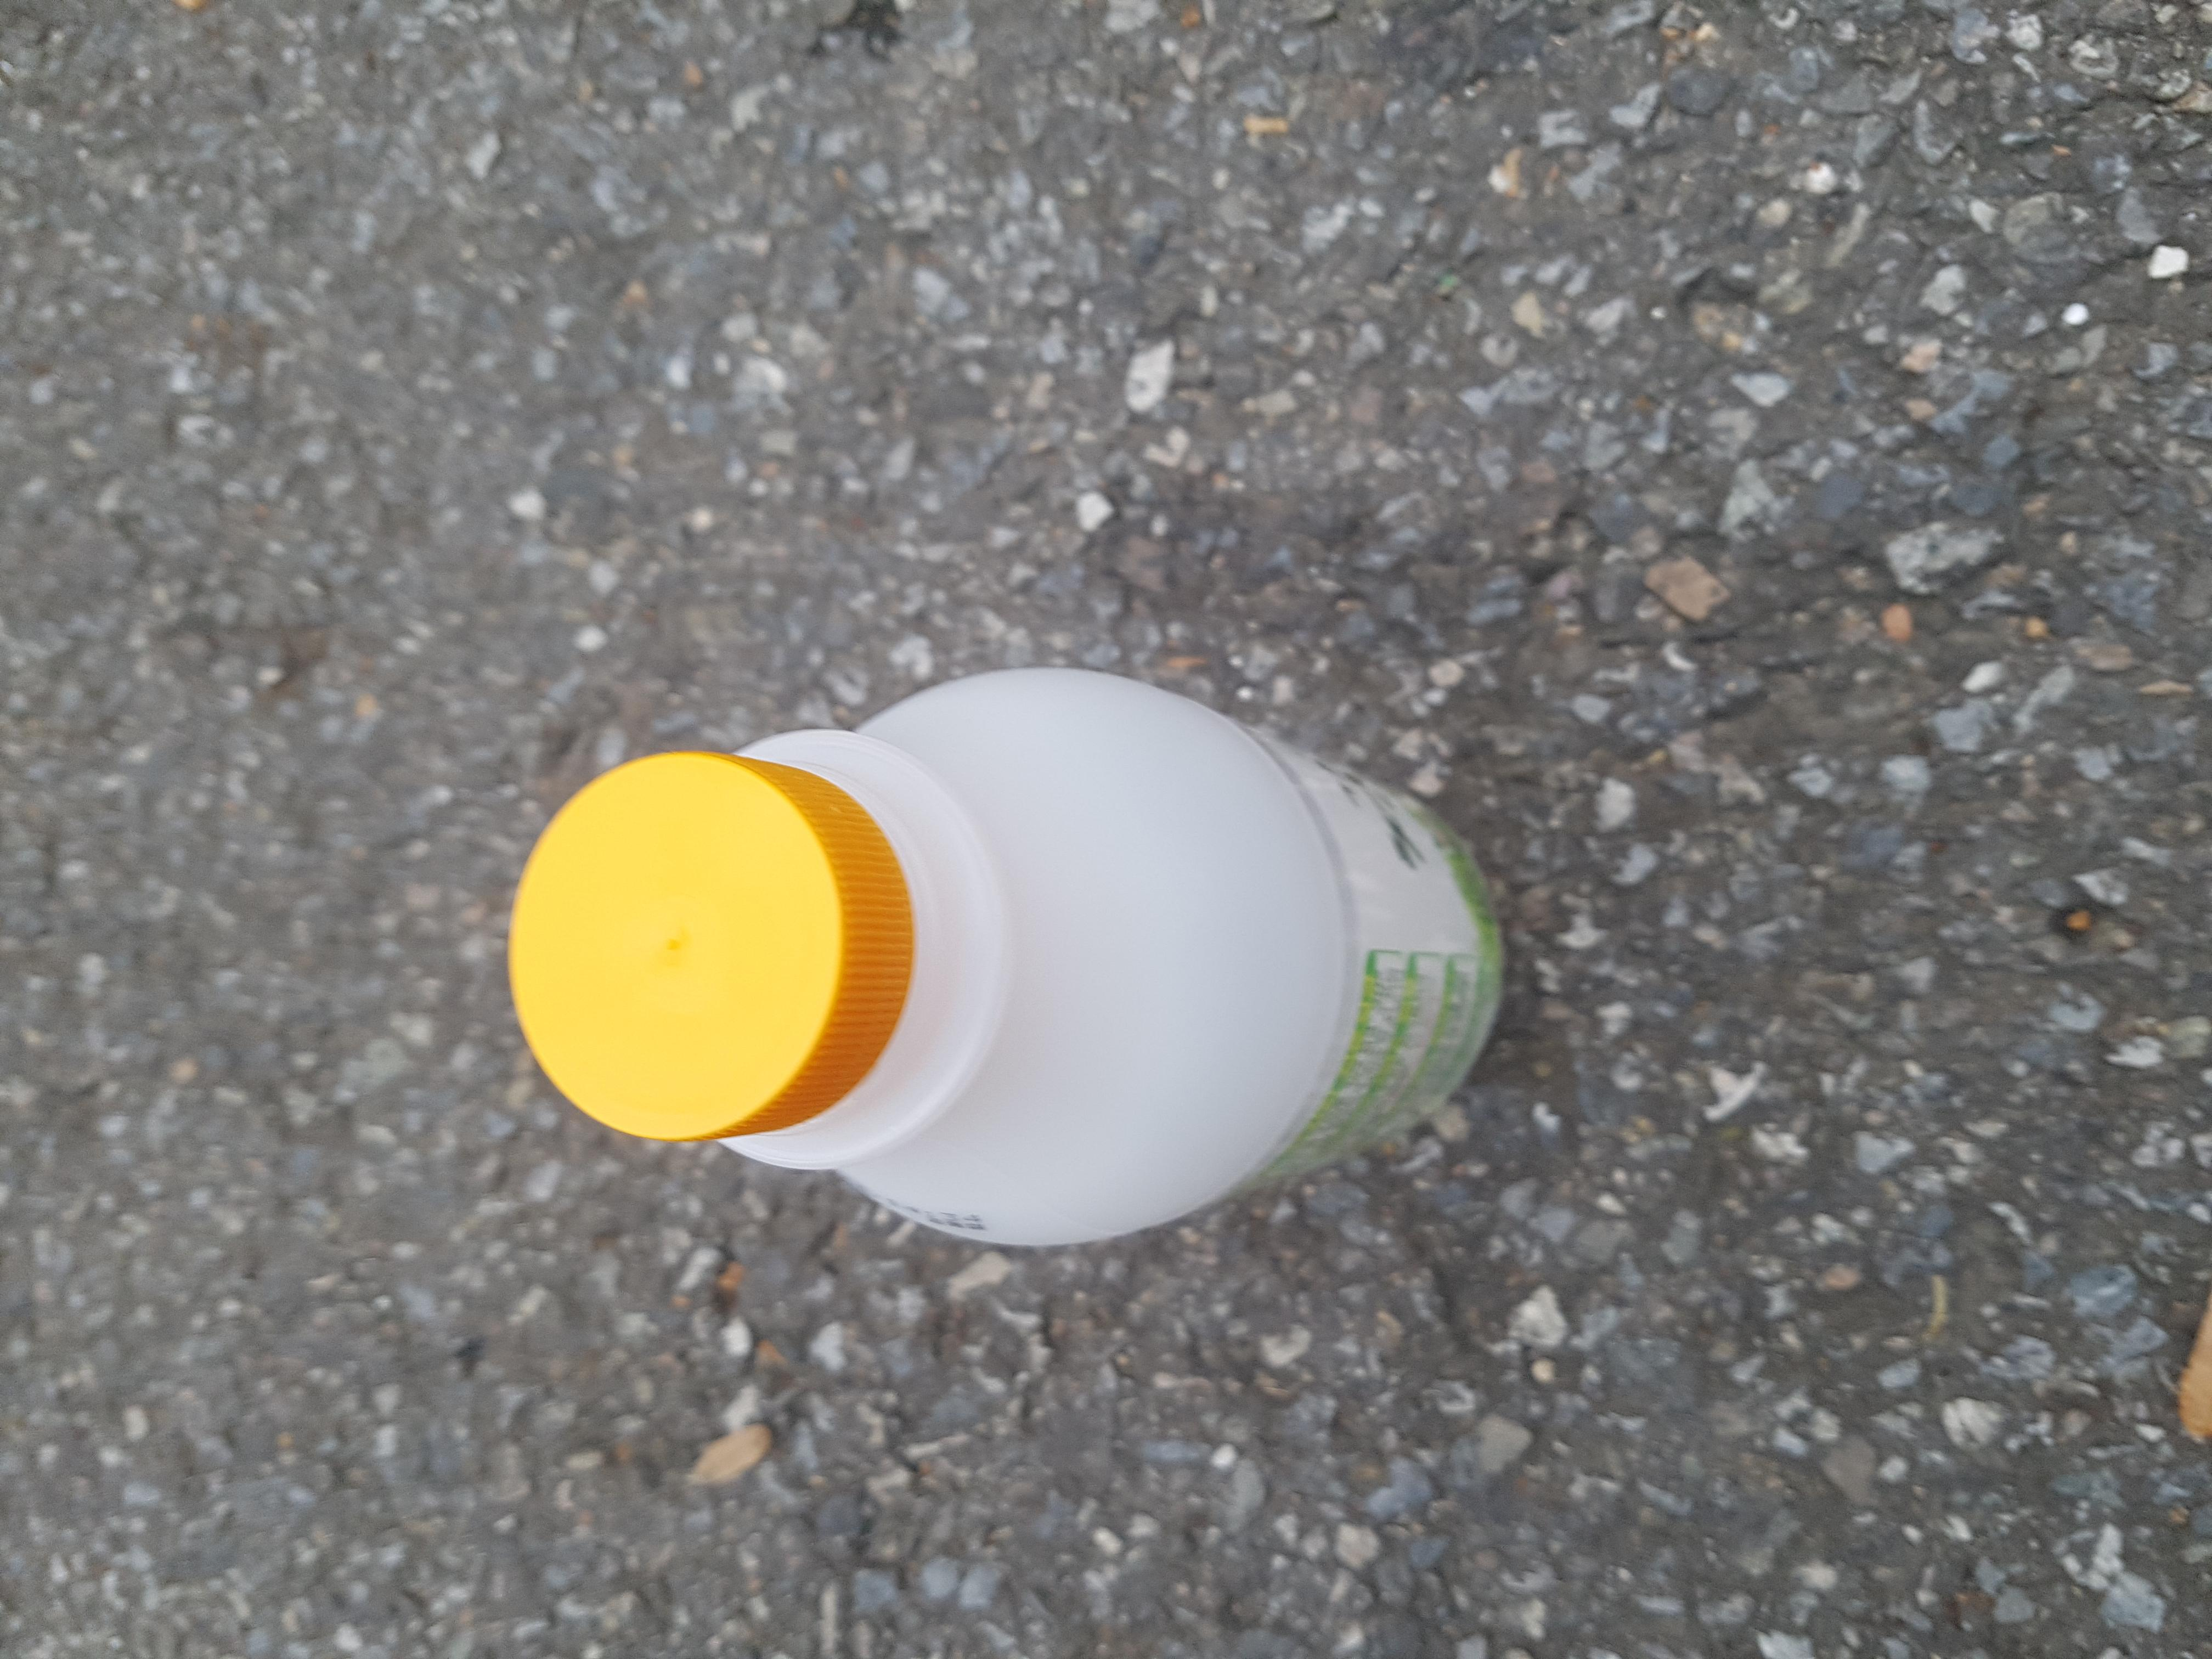bottle: (458, 349, 1404, 1134)
